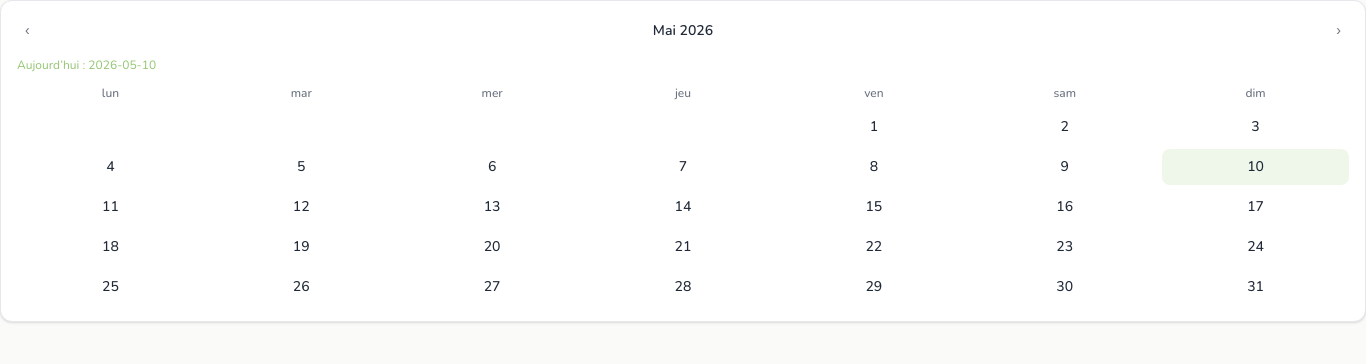
Test: TaskRangePicker › sets start on first click and completes range on second click
Click the button "5": click(301, 167) [208,149,395,185]
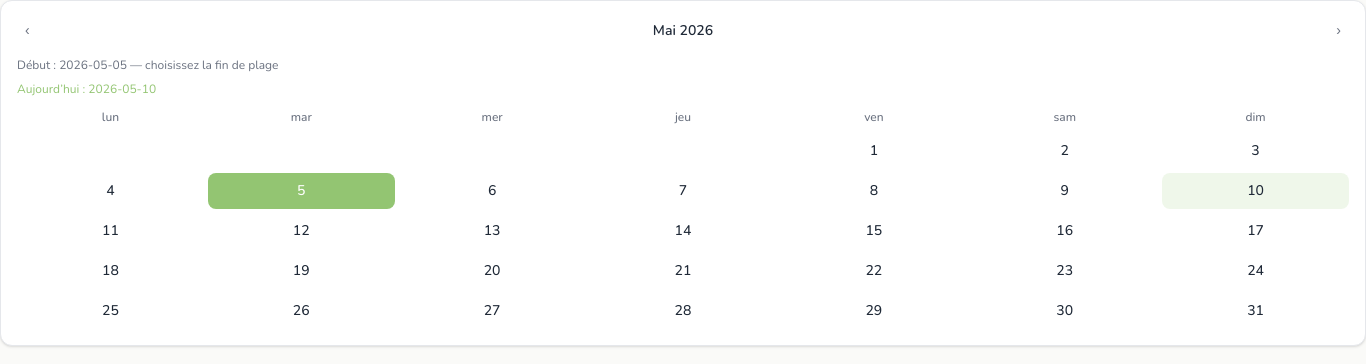
Click the button "15": click(874, 231) [780,213,967,249]
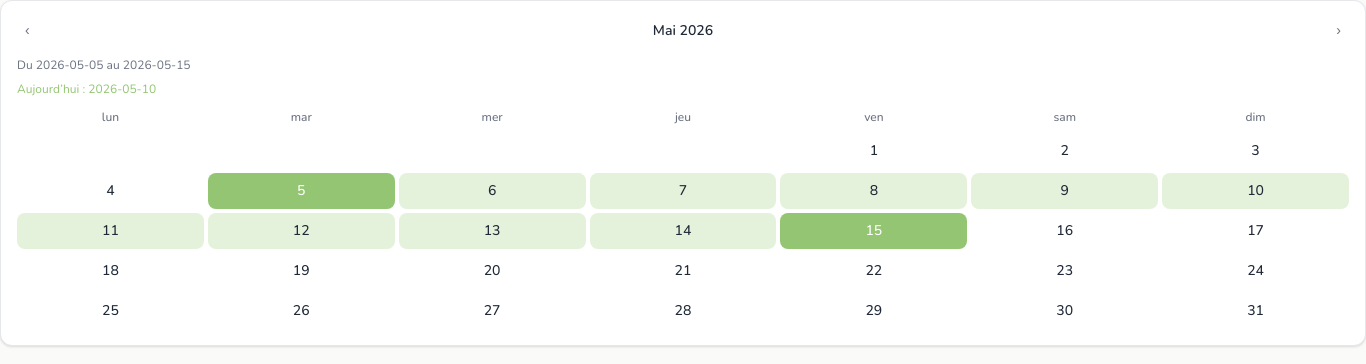
Check: the text "Du 2026-05-05 au 2026-05-15" is shown, box [17,57,191,73]
